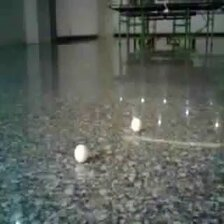w: (73, 144, 88, 163), (130, 117, 142, 132)
